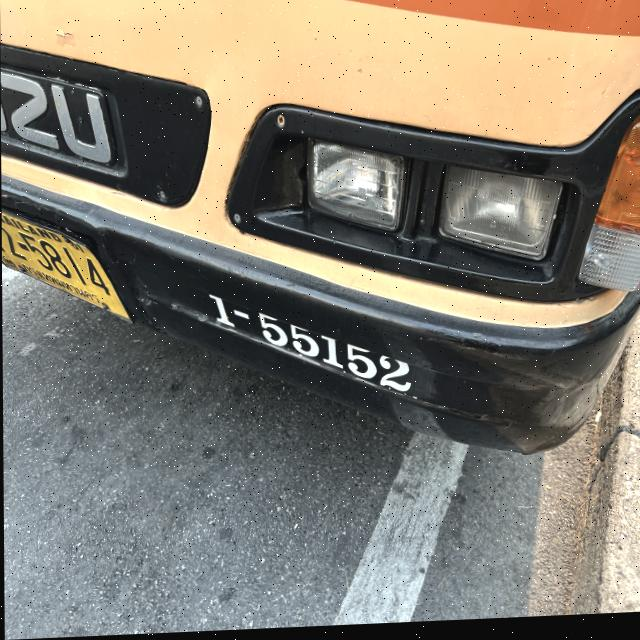BMTA-bus: (0, 0, 640, 483)
Bus Side Number: (201, 274, 426, 428)
